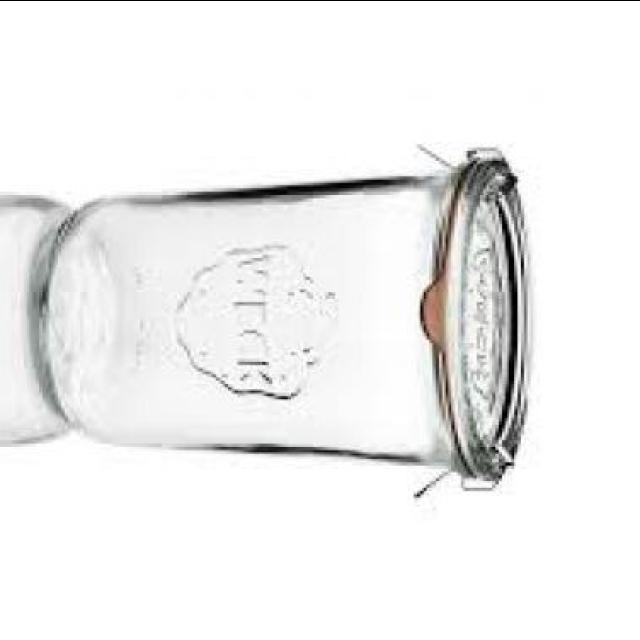kaca: (42, 160, 528, 475)
